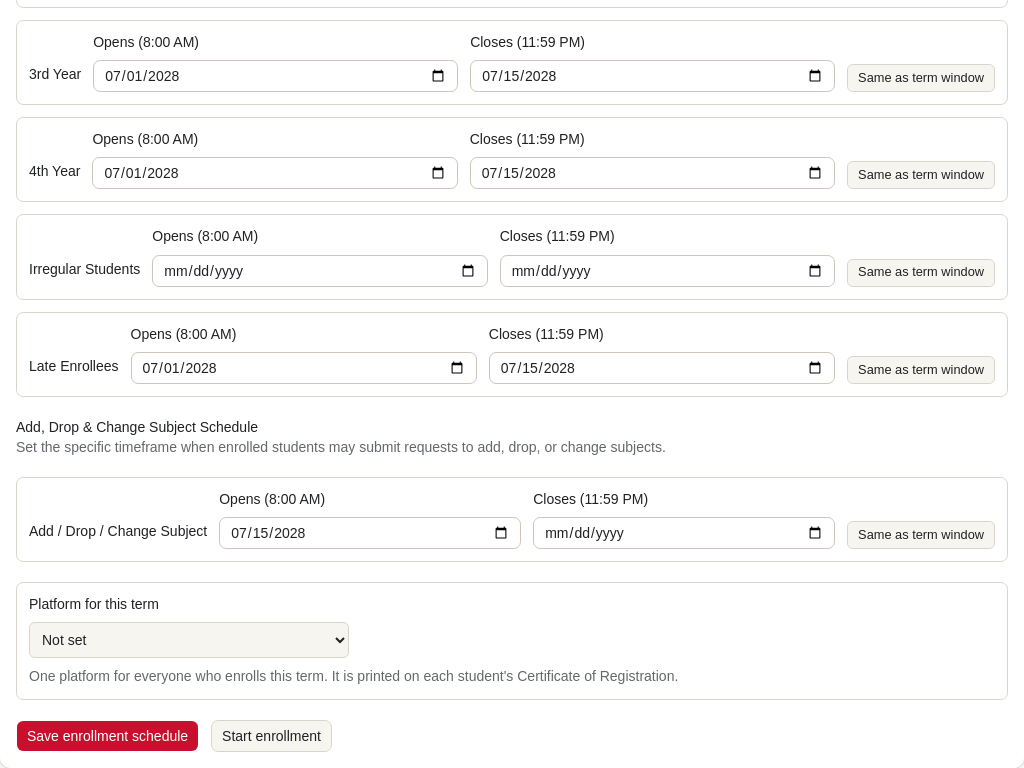
Test: EnrollmentScheduleCard › names the audience rows that are missing dates
(page scrolled)
Click the button "Save enrollment schedule": click(108, 736) [16,720,199,752]
(page scrolled)
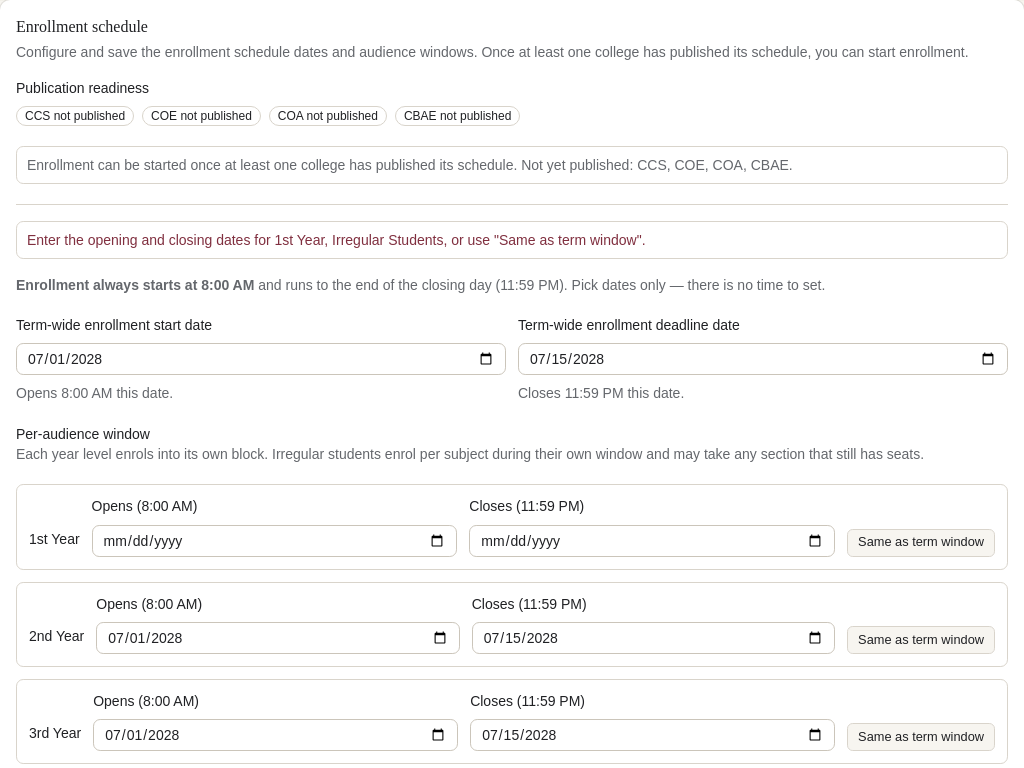
Expected: the 2nd message does not show "2nd Year", [16,221,1008,259]
Result: the 2nd message shows "1st Year" at [27,232,646,248]
Result: the 2nd message shows "Irregular Students" at [27,232,646,248]
